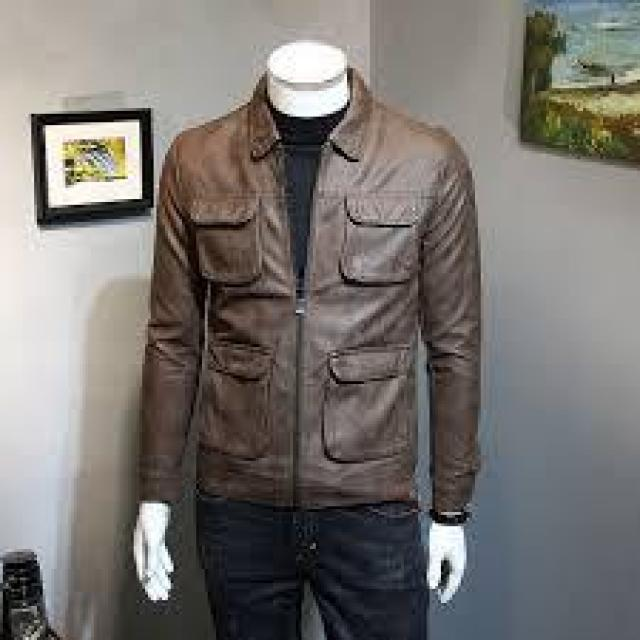jacket: (131, 70, 481, 513)
